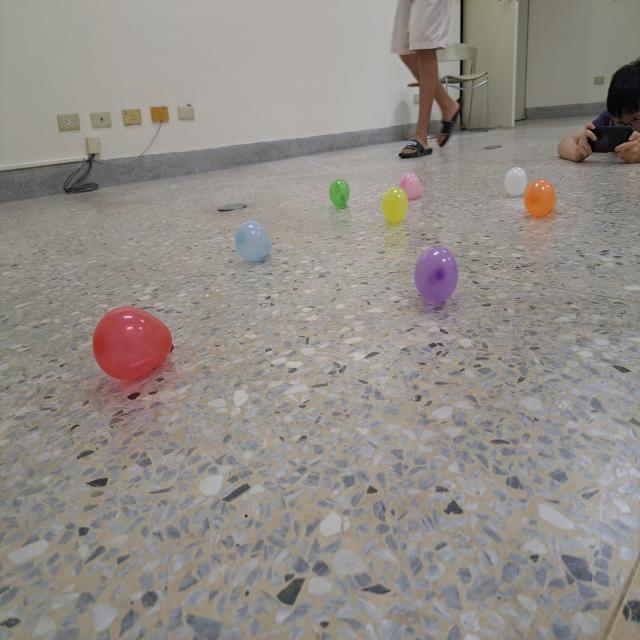other: (415, 244, 460, 304), (234, 219, 273, 262), (524, 178, 559, 215), (383, 184, 409, 224), (328, 178, 352, 208), (398, 172, 425, 198), (505, 166, 527, 196)
red: (94, 304, 175, 380)
